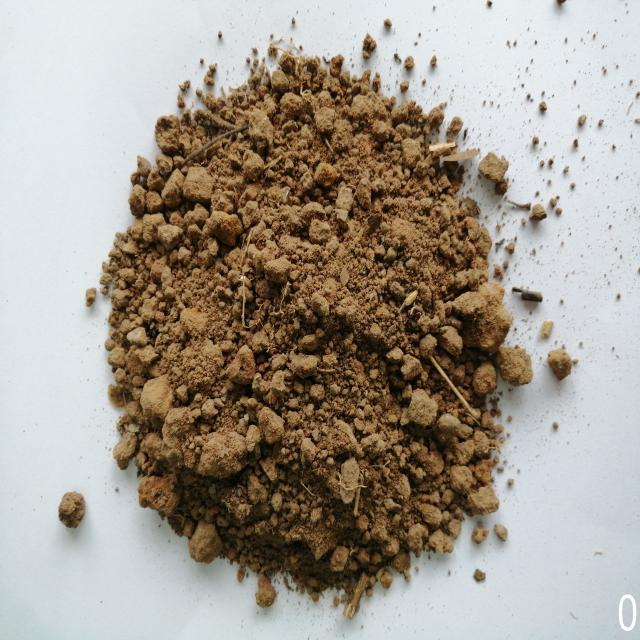soil: (165, 150, 473, 524)
